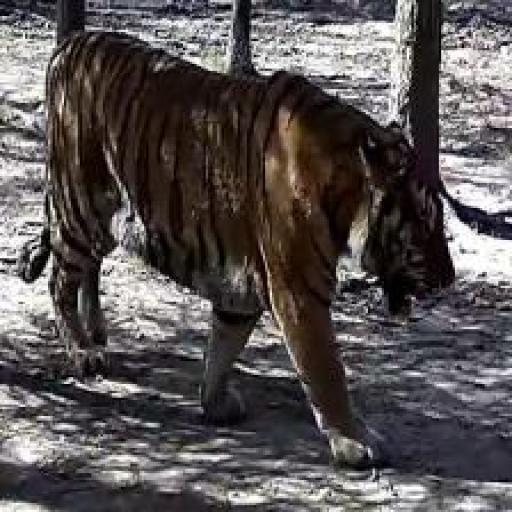Tiger: (18, 27, 437, 478)
